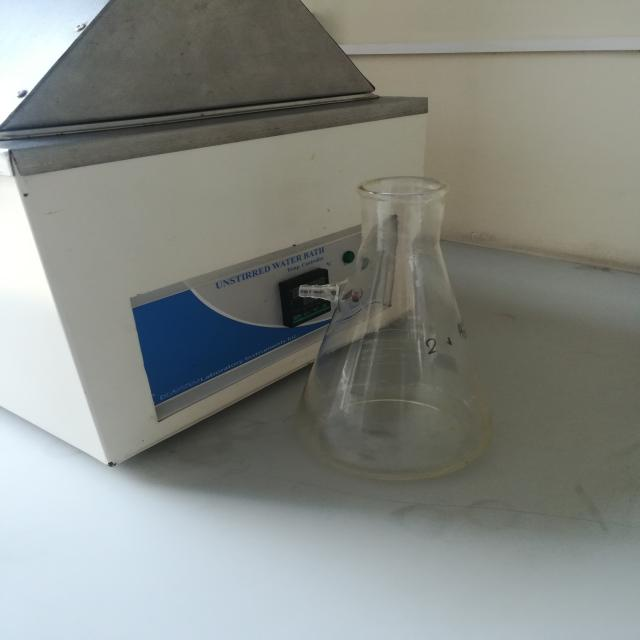Conical_Flask: (278, 160, 535, 516)
